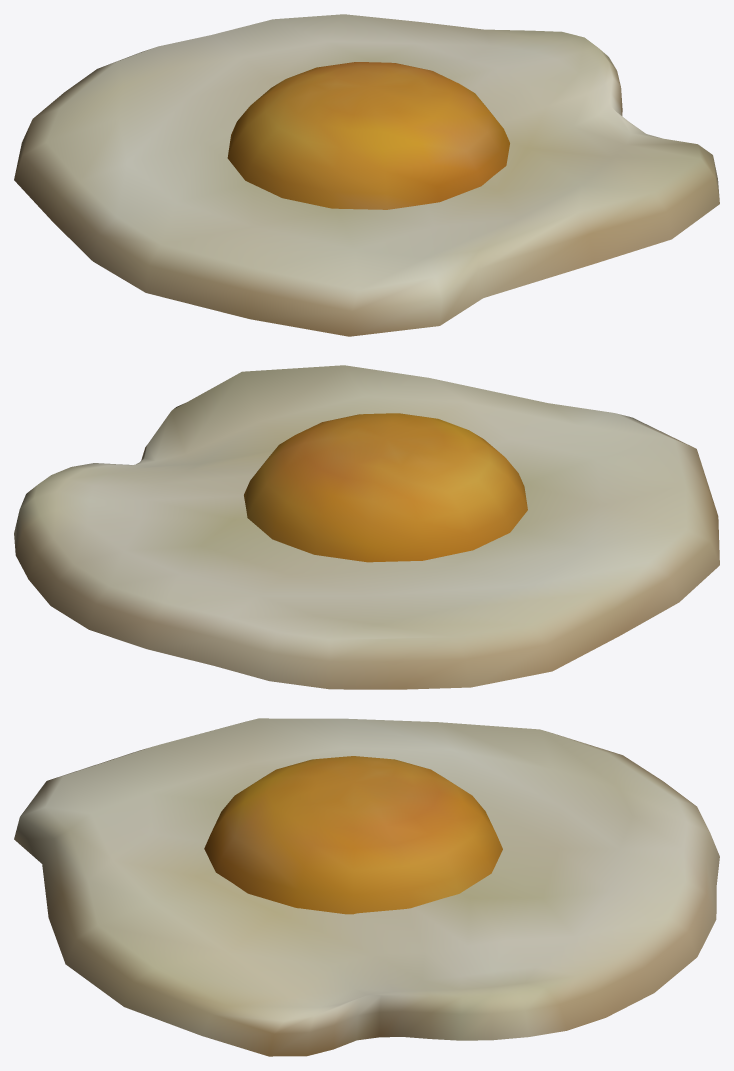
The model's file is fried.glb.
3 views of the same model, one above another, from view 1: azimuth 30°, elevation 25°; view 2: azimuth 150°, elevation 25°; view 3: azimuth 270°, elevation 25° (orthographic). The views are drawn at different scales.
Visible parts, largest first — view 1: fried; view 2: fried; view 3: fried.
Part boxes in pixels (box(x1,y1,x2,y2)): fried: box(14, 14, 719, 336); fried: box(14, 365, 719, 689); fried: box(14, 718, 719, 1056).
Bounding box in the file's own units: 0.6142 × 0.1323 × 0.6179.
